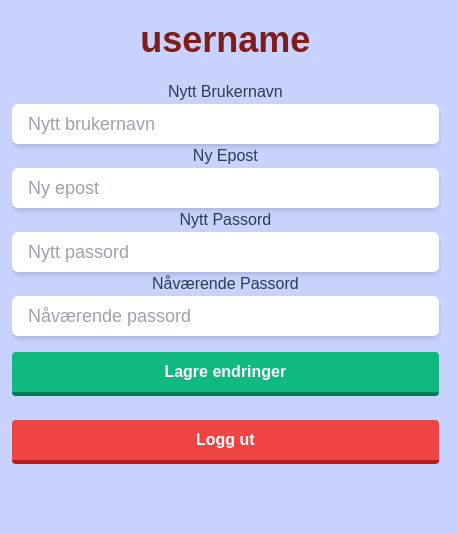
Test case: My profile › edit user
The width and height of the screenshot is (457, 533).
Type "newUsername" into the field with id "username".
click(225, 124); type("newUsername")  # box [12, 104, 439, 144]
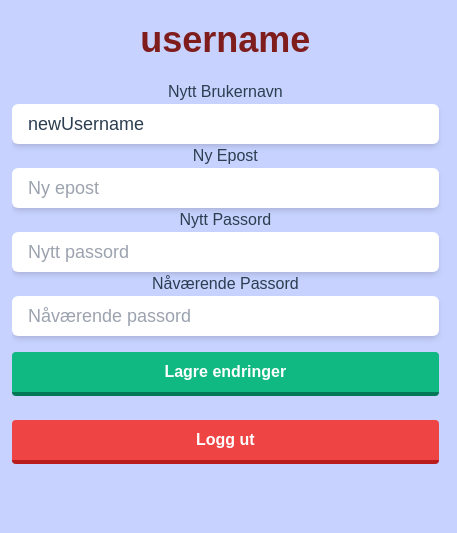
Type "newPassword" into the password field labelled "Nytt Passord".
click(225, 252); type("newPassword")  # box [12, 232, 439, 272]
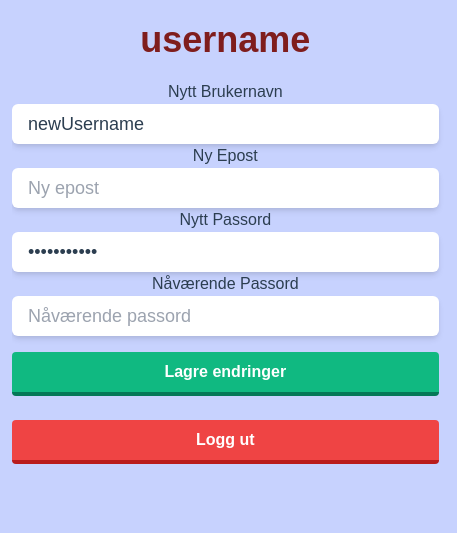
Type "newemail@newemail.com" into the field with id "email".
click(225, 188); type("newemail@newemail.com")  # box [12, 168, 439, 208]
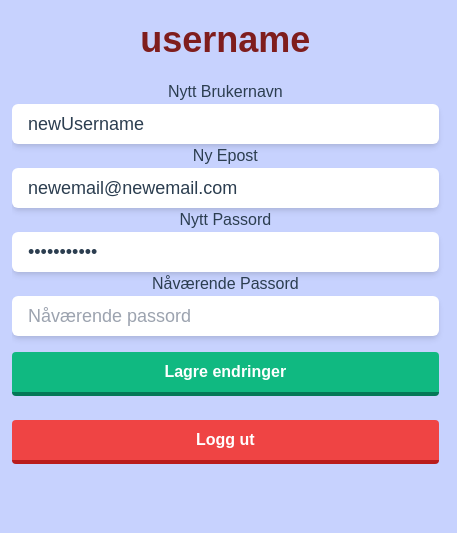
Type "password" into the password field with id "currentPassword".
click(225, 316); type("password")  # box [12, 296, 439, 336]
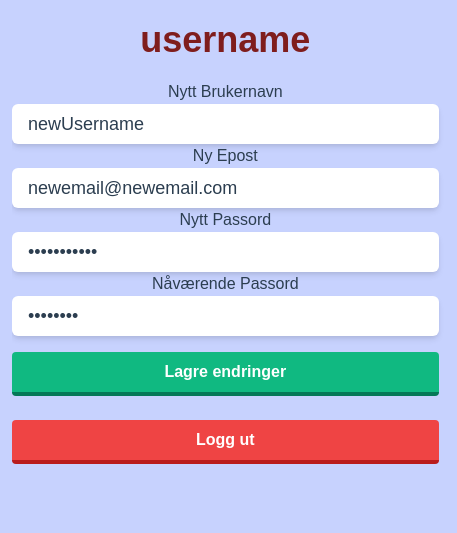
Click the button with id "edit".
click(225, 374)  # box [12, 352, 439, 396]
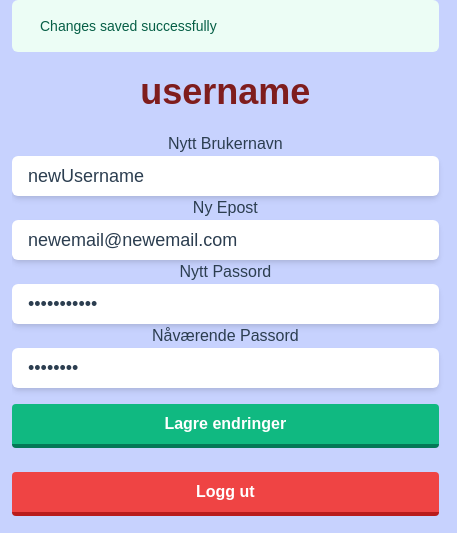
Now the text "Changes saved successfully" is shown, box [40, 16, 217, 36]
